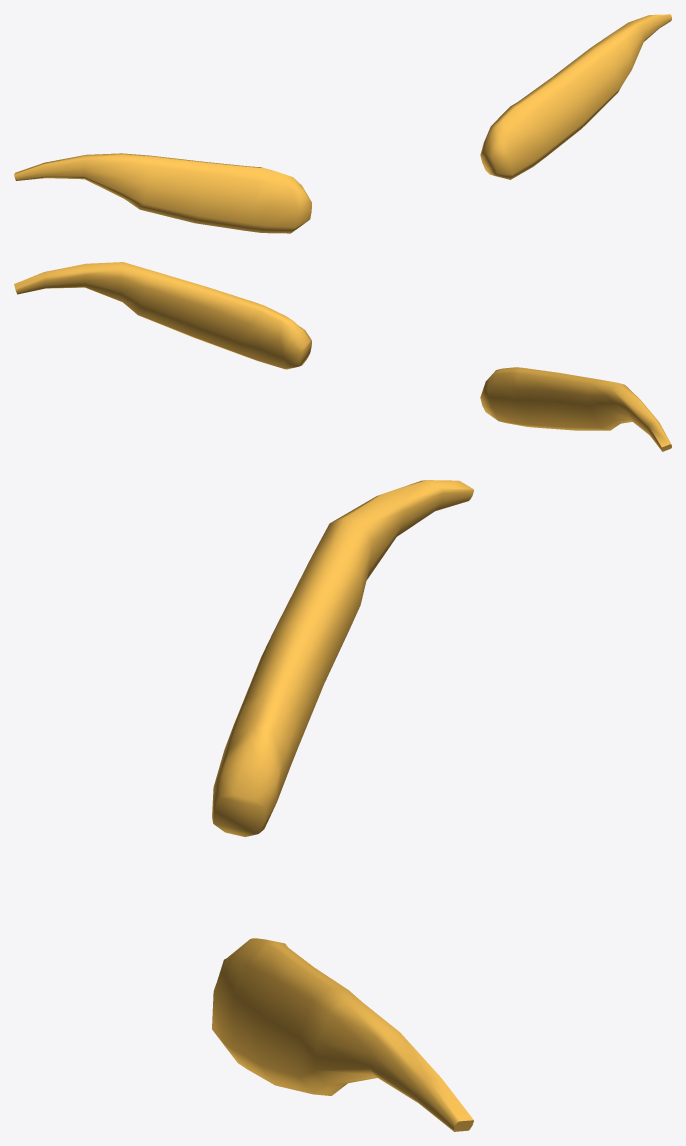
Rendered from Eyebrows_03_05.fbx.
3 views of the same model, one above another, from view 1: azimuth 30°, elevation 25°; view 2: azimuth 150°, elevation 25°; view 3: azimuth 270°, elevation 25° (orthographic). The views are drawn at different scales.
Parts seen in each view (by area): view 1: Eyebrows_03_05; view 2: Eyebrows_03_05; view 3: Eyebrows_03_05.
Boxes of the visible parts, x1,y1,x2,y2 form: Eyebrows_03_05: [14, 14, 671, 233]; Eyebrows_03_05: [14, 262, 671, 451]; Eyebrows_03_05: [212, 480, 473, 1131].
Size of the model in its own units: 18.82 by 2.52 by 3.25.
